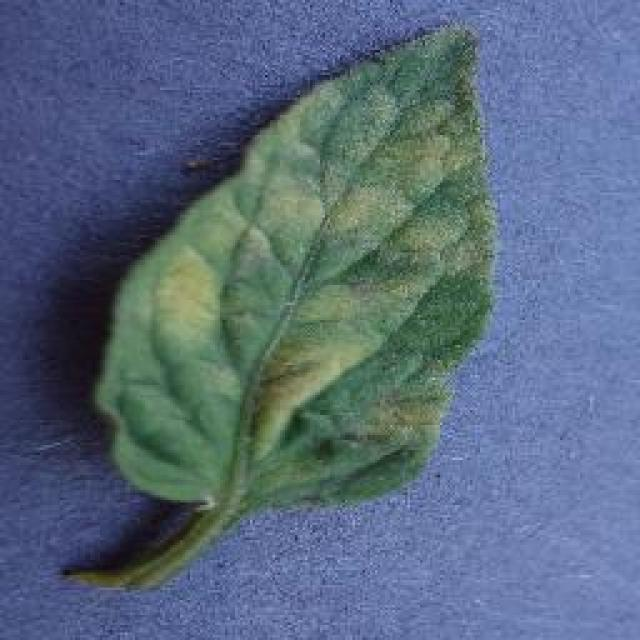Tom_Leaf_Mold: (180, 170, 446, 435)
